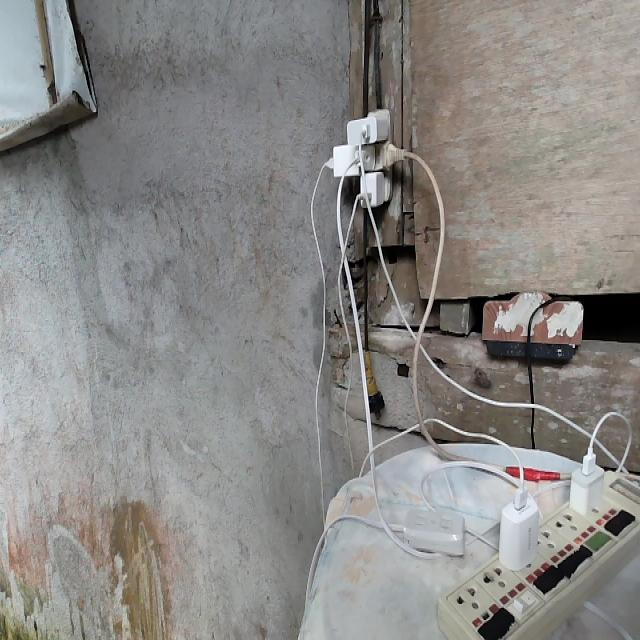-: (327, 107, 403, 208)
